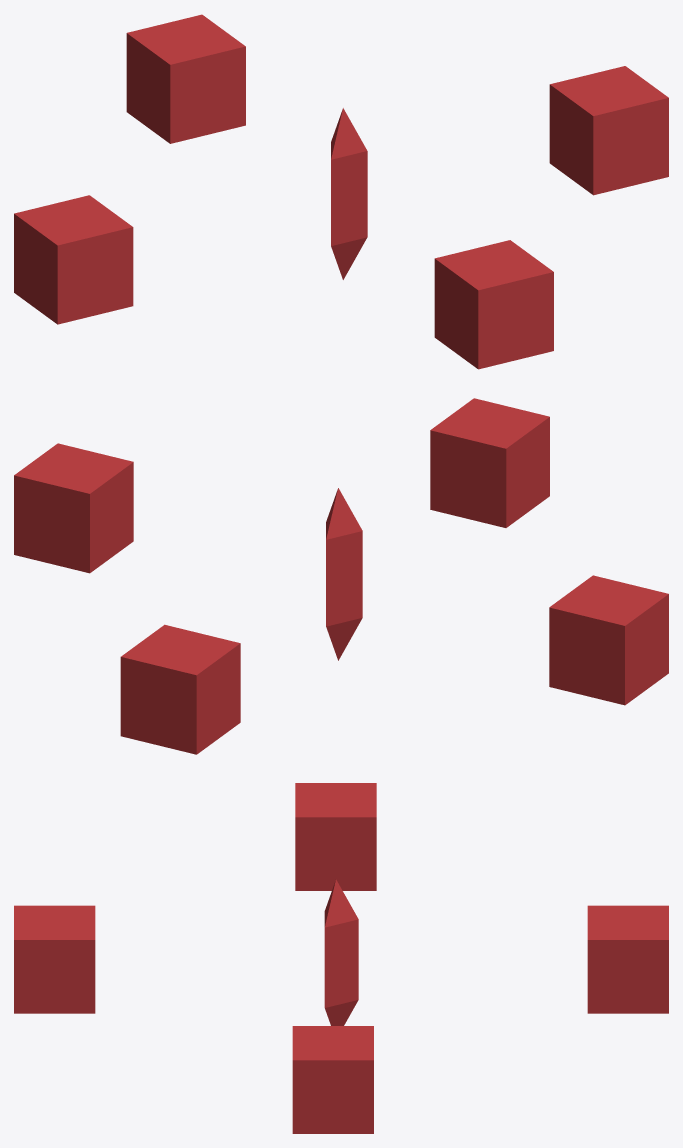
3 views of the same model, one above another, from view 1: azimuth 30°, elevation 25°; view 2: azimuth 150°, elevation 25°; view 3: azimuth 270°, elevation 25° (orthographic). The views are drawn at different scales.
Visible parts, largest first — view 1: cube, sphere; view 2: cube, sphere; view 3: cube, sphere.
Boxes of the visible parts, box(x1,y1,x2,y2) form: cube: box(14, 14, 668, 369); sphere: box(331, 108, 367, 279); cube: box(14, 398, 668, 754); sphere: box(326, 488, 362, 660); cube: box(14, 783, 668, 1133); sphere: box(324, 879, 358, 1025).
Bounding box in the file's own units: 1.15 × 0.3102 × 1.14.
